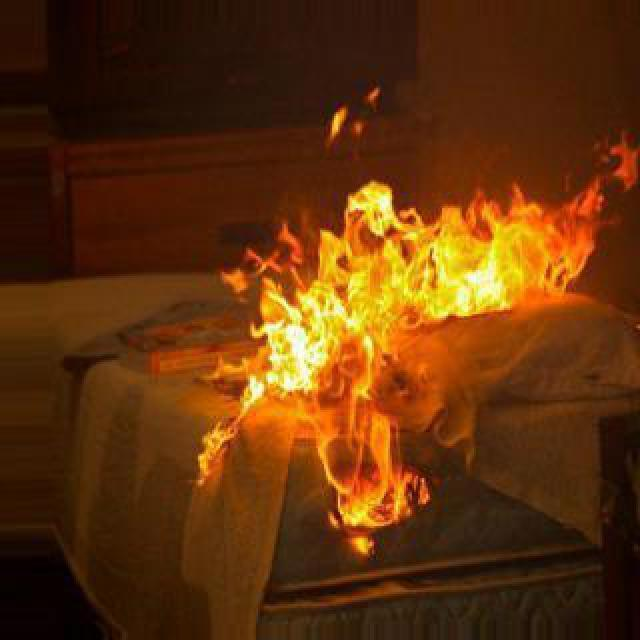Fire: (186, 78, 638, 548)
